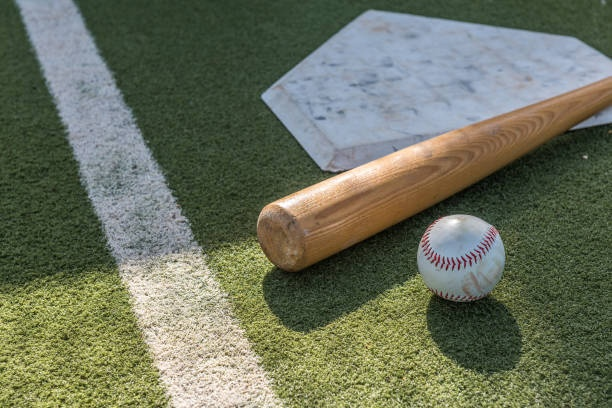bita: (251, 76, 612, 273)
